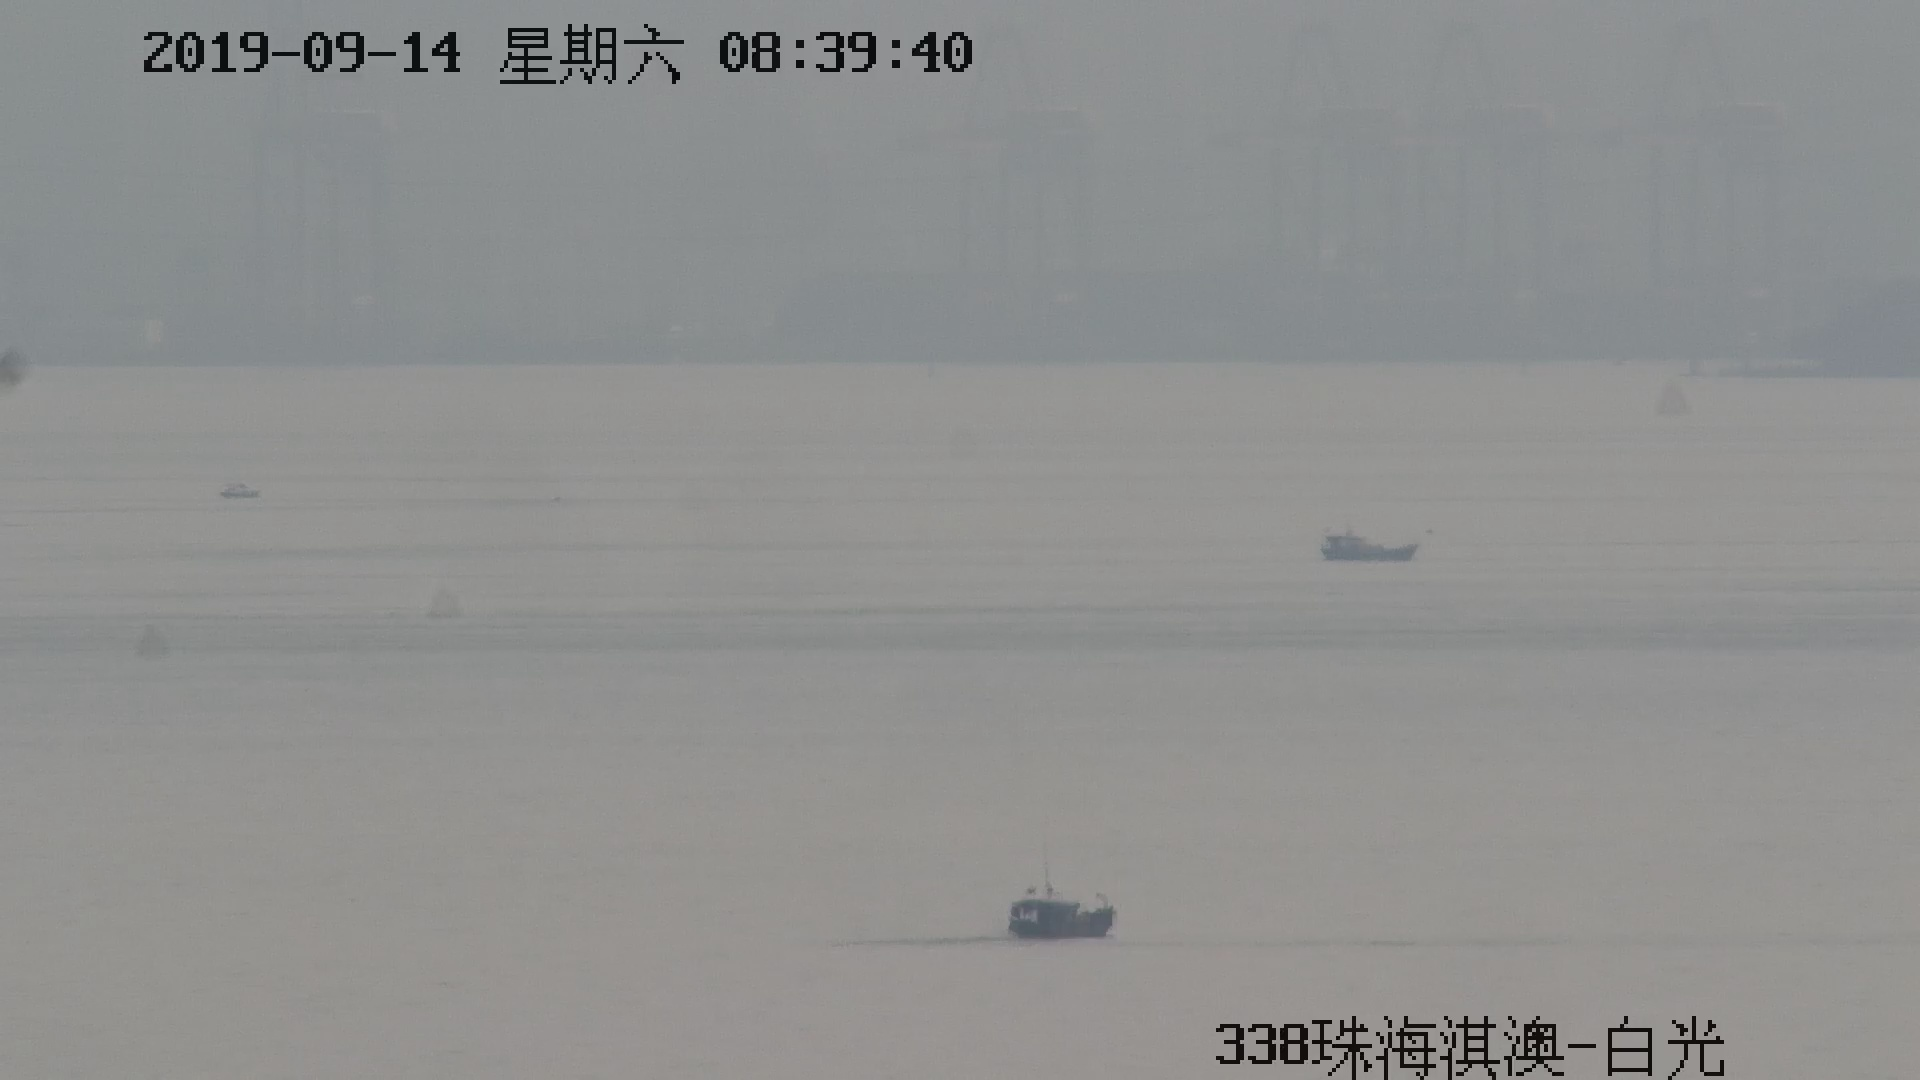ship: (1005, 829, 1116, 942), (1320, 530, 1422, 564)
